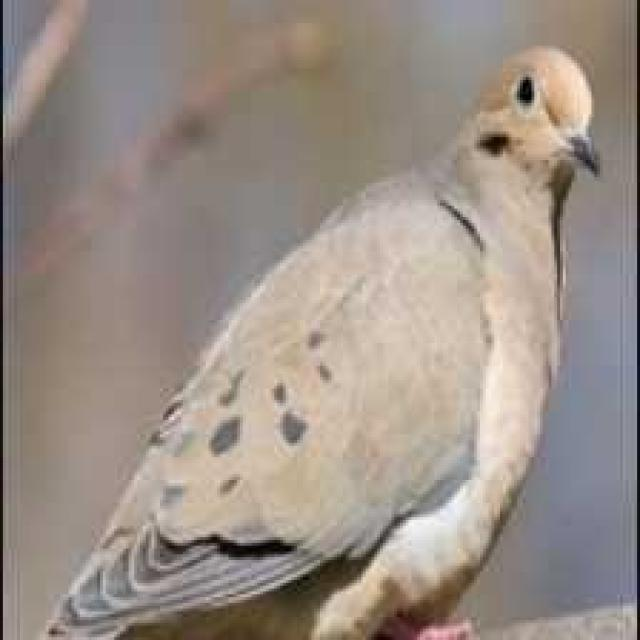bird: (50, 40, 609, 640)
